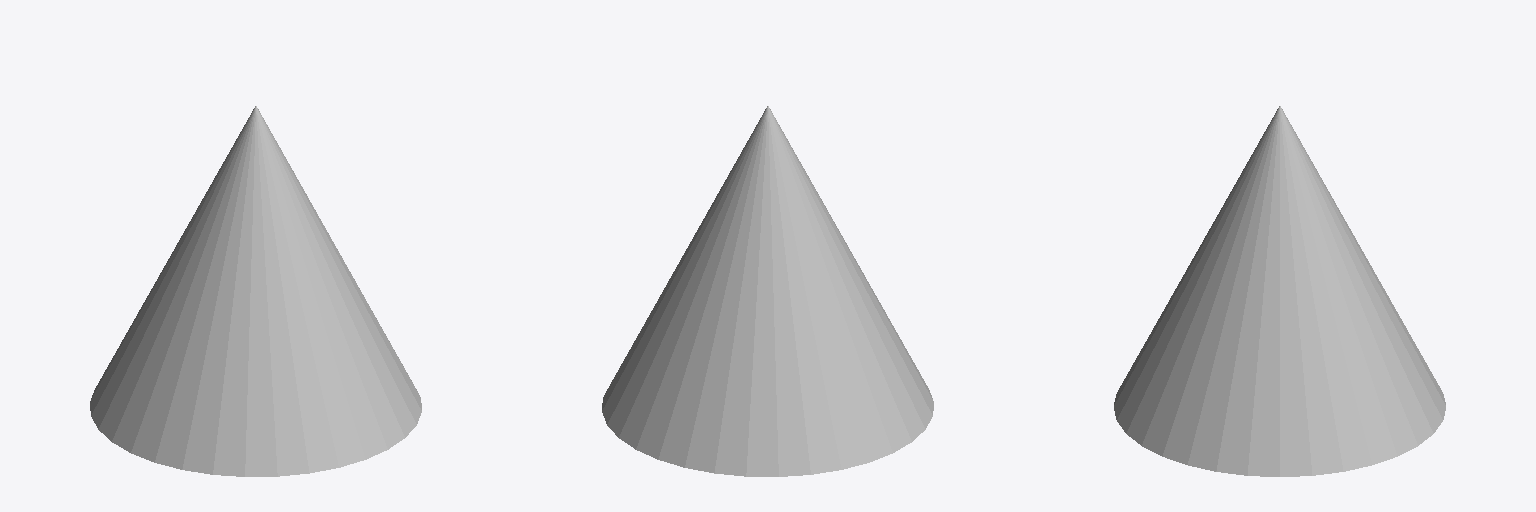
3 renders of one model, left to right at view 1: azimuth 30°, elevation 25°; view 2: azimuth 150°, elevation 25°; view 3: azimuth 270°, elevation 25°, orthographic.
Visible parts, largest first — view 1: /ambf/env/psm2/base_link_/ambf/env/psm2/base_link_base_link_Cone; view 2: /ambf/env/psm2/base_link_/ambf/env/psm2/base_link_base_link_Cone; view 3: /ambf/env/psm2/base_link_/ambf/env/psm2/base_link_base_link_Cone.
Boxes of the visible parts, <box> form: /ambf/env/psm2/base_link_/ambf/env/psm2/base_link_base_link_Cone: <box>90,106,421,476</box>; /ambf/env/psm2/base_link_/ambf/env/psm2/base_link_base_link_Cone: <box>602,106,933,476</box>; /ambf/env/psm2/base_link_/ambf/env/psm2/base_link_base_link_Cone: <box>1114,106,1445,476</box>.
Bounding box in the file's own units: 0.02 × 0.02 × 0.02.